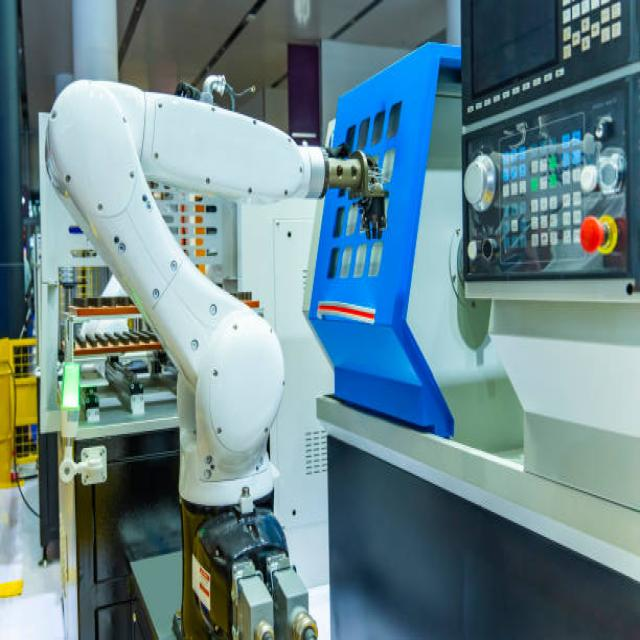Robotic-arm: (45, 72, 330, 510)
